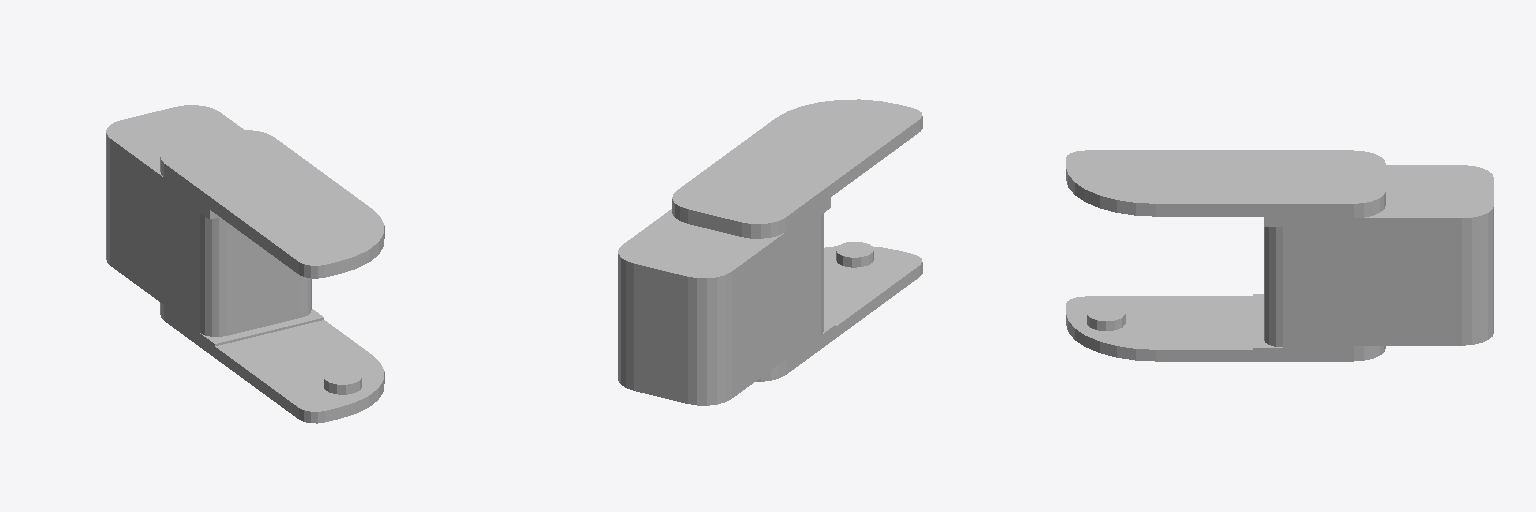
3 renders of one model, left to right at view 1: azimuth 30°, elevation 25°; view 2: azimuth 150°, elevation 25°; view 3: azimuth 270°, elevation 25°, orthographic.
Parts seen in each view (by area): view 1: <STL_BINARY>; view 2: <STL_BINARY>; view 3: <STL_BINARY>.
Boxes of the visible parts, x1,y1,x2,y2 form: <STL_BINARY>: [106, 105, 384, 423]; <STL_BINARY>: [618, 99, 922, 405]; <STL_BINARY>: [1066, 150, 1493, 361].
Bounding box in the file's own units: 0.0196 × 0.027 × 0.0665.